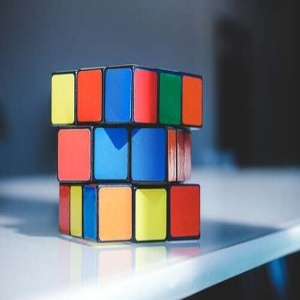cube: (50, 64, 203, 243)
